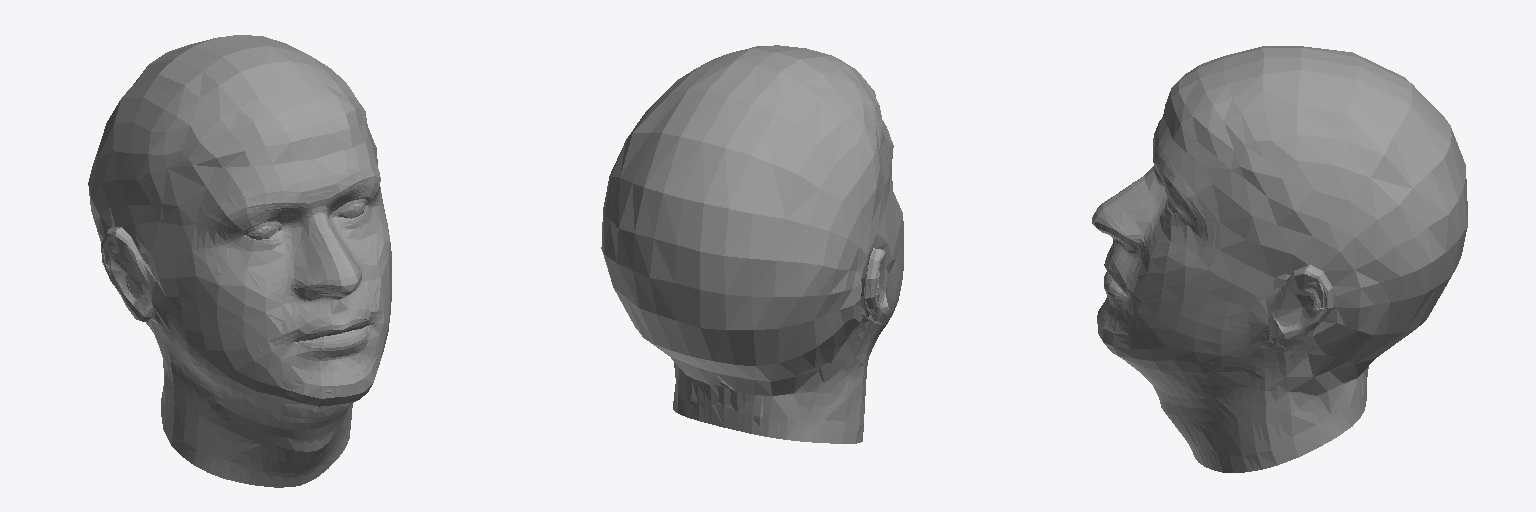
The model's file is myf1.obj.
The picture shows the model from 3 angles: view 1: azimuth 30°, elevation 25°; view 2: azimuth 150°, elevation 25°; view 3: azimuth 270°, elevation 25°; orthographic projection.
Visible parts, largest first — view 1: nose1; view 2: nose1; view 3: nose1.
Part boxes in pixels (left/top/right/bottom): nose1: left=88, top=35, right=391, bottom=487; nose1: left=601, top=45, right=903, bottom=443; nose1: left=1092, top=46, right=1467, bottom=472.
Bounding box in the file's own units: 1.96 × 2.83 × 2.42.